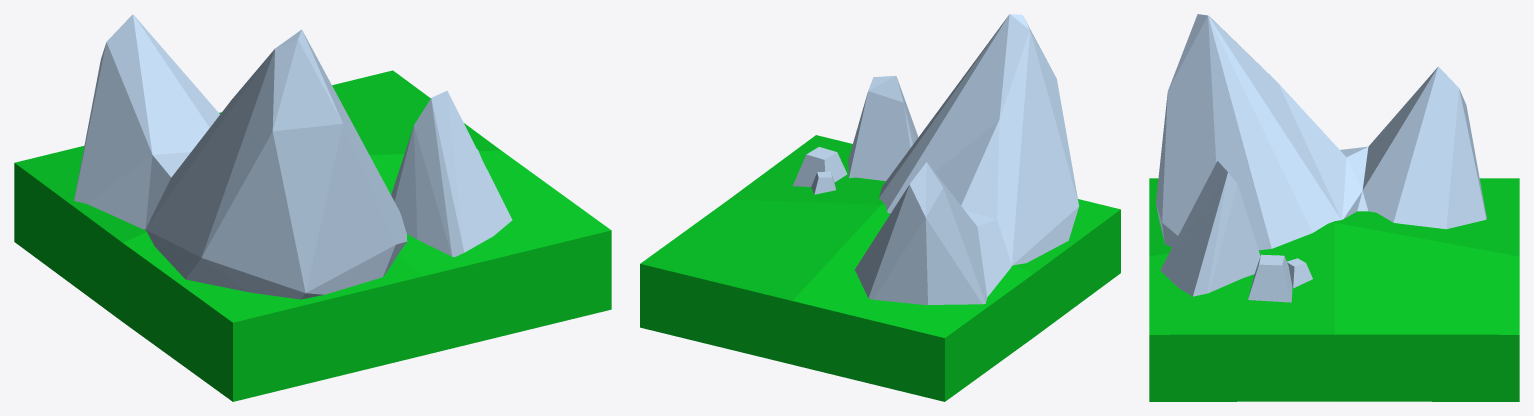
The model's file is IceMoun.fbx.
3 renders of one model, left to right at view 1: azimuth 30°, elevation 25°; view 2: azimuth 150°, elevation 25°; view 3: azimuth 270°, elevation 25°, orthographic. The views are drawn at different scales.
Visible parts, largest first — view 1: Cube.001, Cube.005, Cube.002; view 2: Cube.001, Cube.005, Cube.002, Cube.004, Cube.003; view 3: Cube.001, Cube.005, Cube.002, Cube.004, Cube.003.
Part boxes in pixels (left/top/right/bottom): Cube.001: left=14, top=70, right=611, bottom=401; Cube.005: left=74, top=14, right=407, bottom=299; Cube.002: left=391, top=90, right=512, bottom=257; Cube.001: left=640, top=135, right=1120, bottom=401; Cube.005: left=854, top=14, right=1078, bottom=305; Cube.002: left=848, top=75, right=918, bottom=181; Cube.004: left=793, top=147, right=847, bottom=186; Cube.003: left=811, top=171, right=835, bottom=194; Cube.001: left=1149, top=178, right=1519, bottom=401; Cube.005: left=1156, top=14, right=1486, bottom=250; Cube.002: left=1160, top=161, right=1260, bottom=296; Cube.004: left=1248, top=254, right=1292, bottom=302; Cube.003: left=1287, top=258, right=1312, bottom=288.
Bounding box in the file's own units: 501 × 406 × 500.
